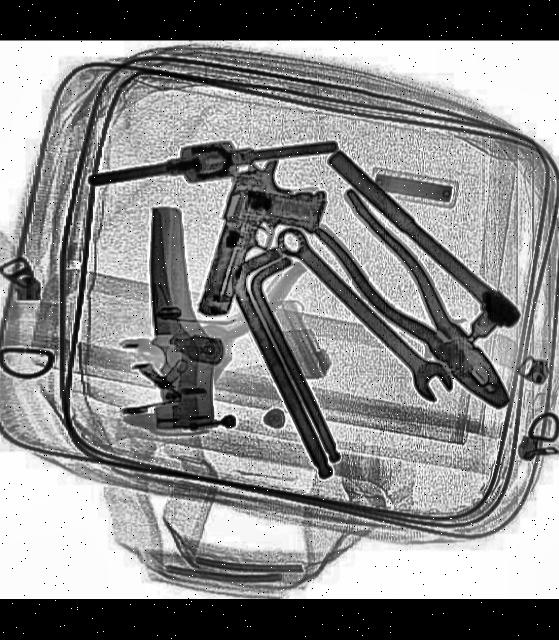Gun: (192, 152, 334, 340)
Pliers: (300, 188, 527, 426)
Wrench: (266, 219, 458, 410)
